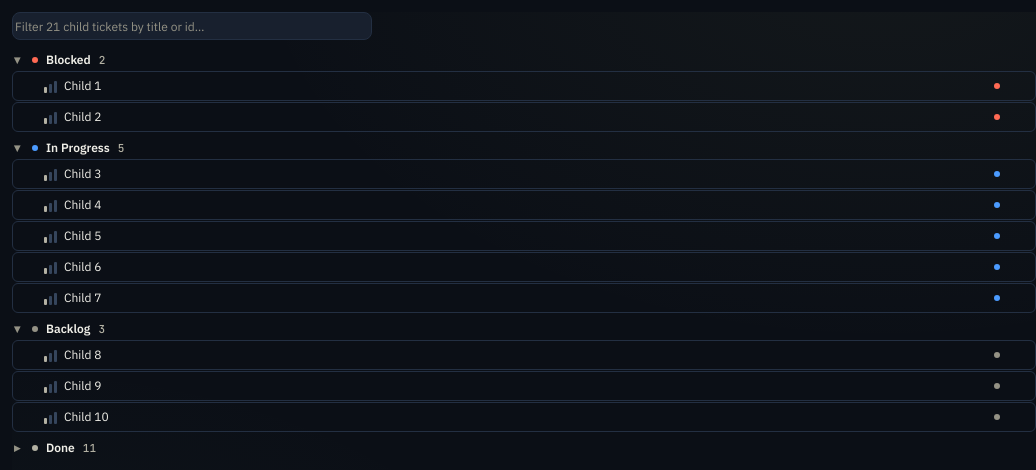
ChildTicketsList › filters by title or id, keeps a match under its parent, and opens the groups it hit
Type "needle" into the search field named "Filter child tickets by title or id" at (192, 26), box x1=12 y1=12 x2=372 y2=40
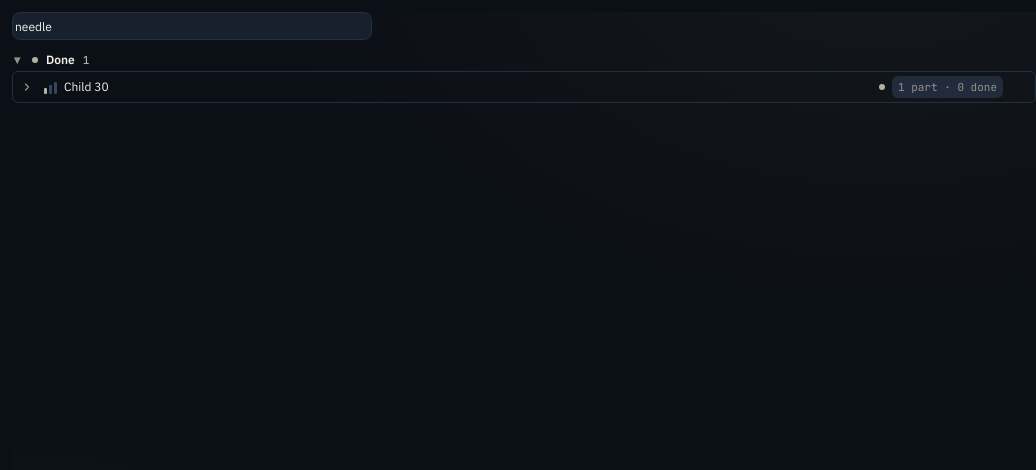
Expected: the text "Child 30" is shown, x1=64 y1=79 x2=109 y2=94
